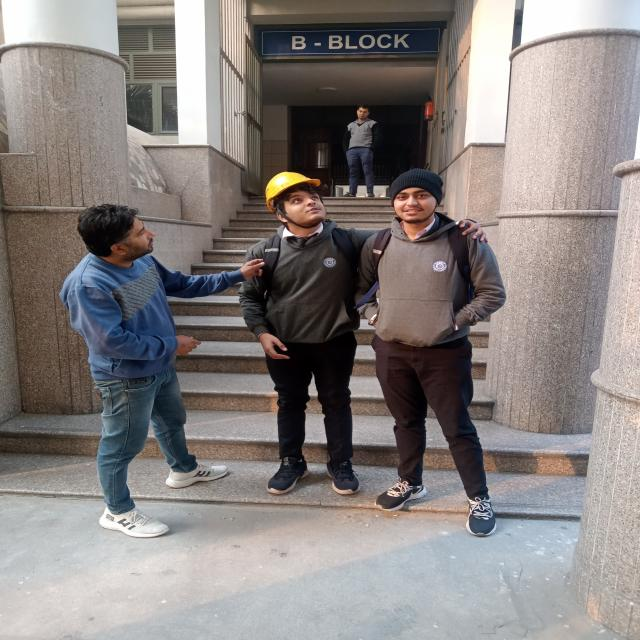no jacket: (239, 170, 371, 497)
unsafe: (64, 204, 233, 538), (365, 168, 506, 541), (340, 104, 380, 198)
